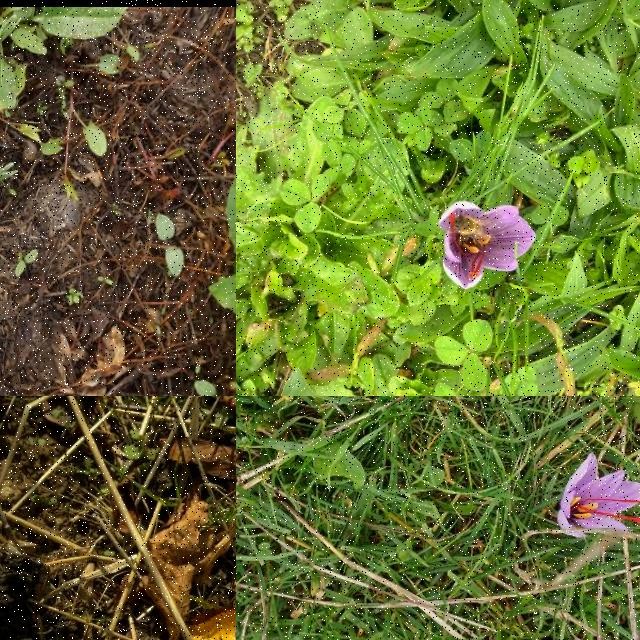flower: (438, 200, 538, 290), (558, 452, 640, 537)
